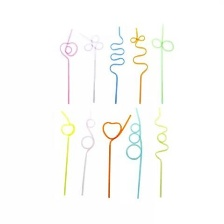drinking_straw: (98, 110, 133, 199), (53, 108, 81, 200), (148, 106, 173, 199), (149, 21, 176, 105), (102, 23, 129, 104), (56, 24, 81, 106)
